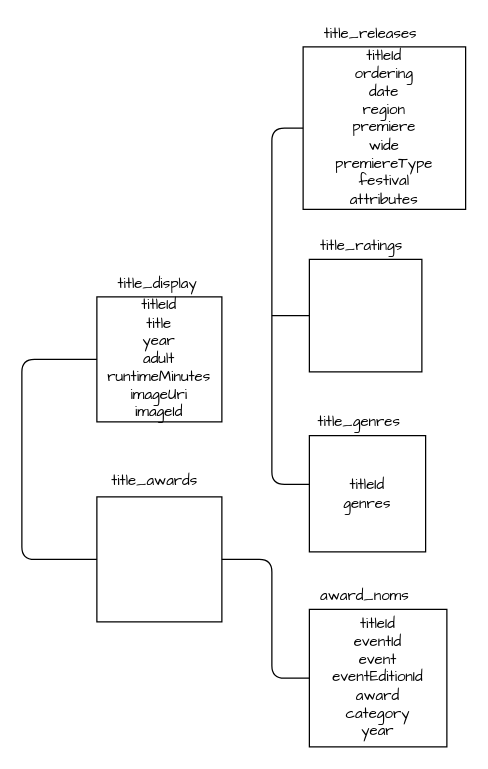
This 488x769 diagram has some shape labels left out. The shapes that lost their labels are listed below. From the top down, each one's centre as x and y in pixels, then its label:
At (x=365, y=315): "titleId rating ratingCount topRank bottomRank topRankTv".
At (x=159, y=559): "titleId awardId winner".
